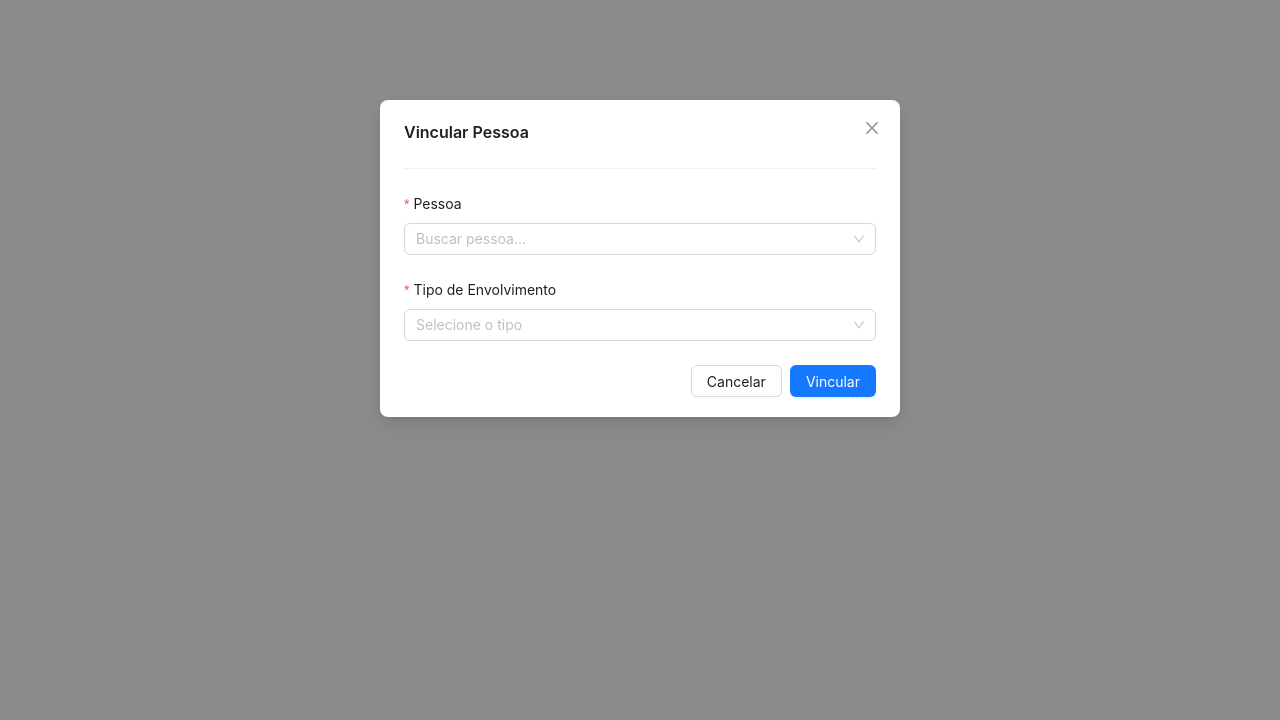
it: LinkInvolvementModal › exibe o botão "Cadastrar nova pessoa" no dropdown
The image size is (1280, 720).
Step 1. Click the dropdown labelled "Pessoa" → x=631, y=239, box [416,224,846,254]
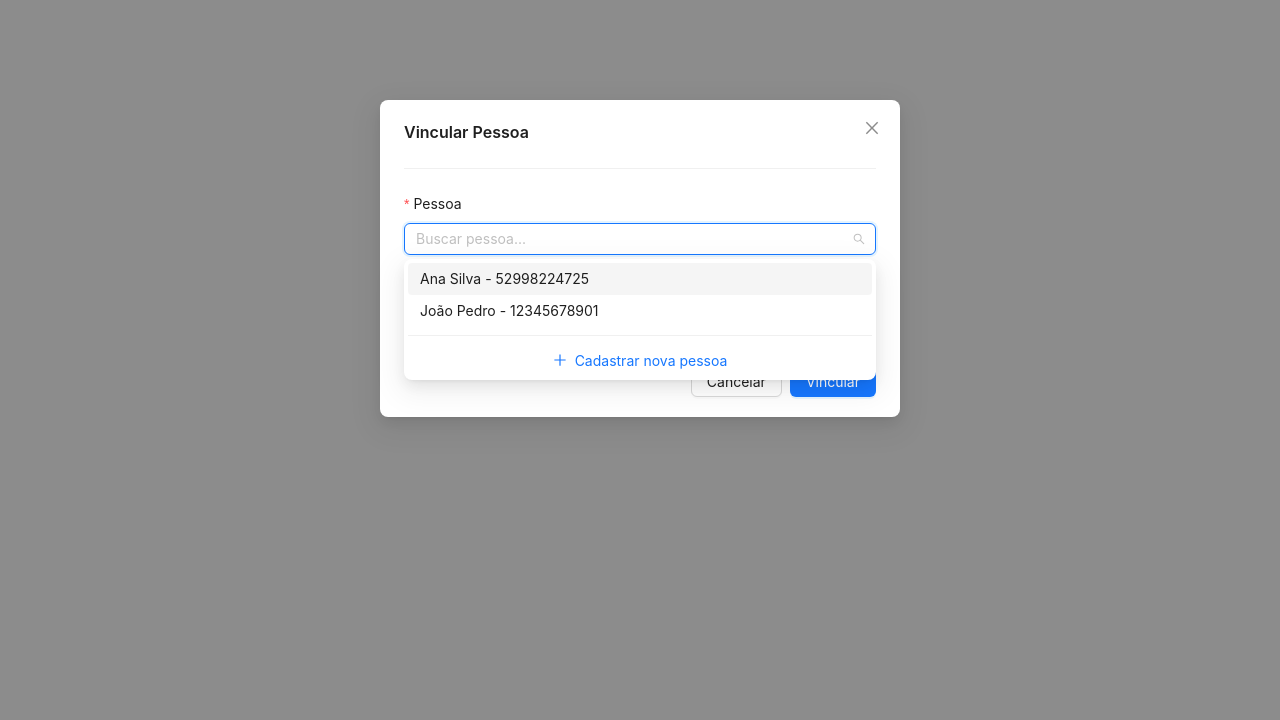
Now the text "Cadastrar nova pessoa" is shown, box [575,352,727,368]
